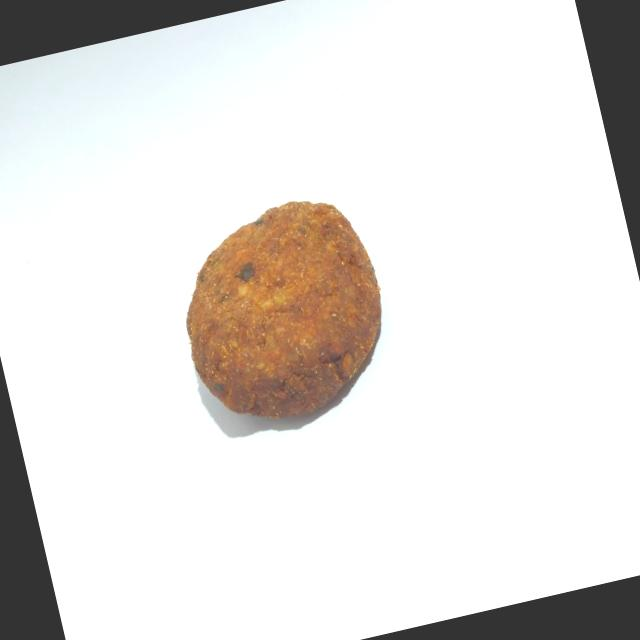Pajagua: (147, 176, 417, 455)
